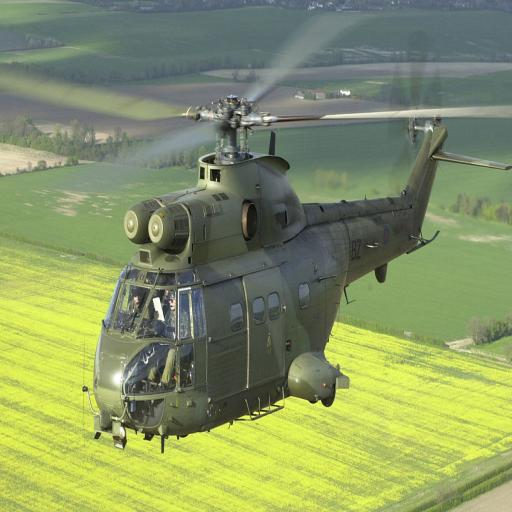helicopter: (96, 92, 512, 432)
